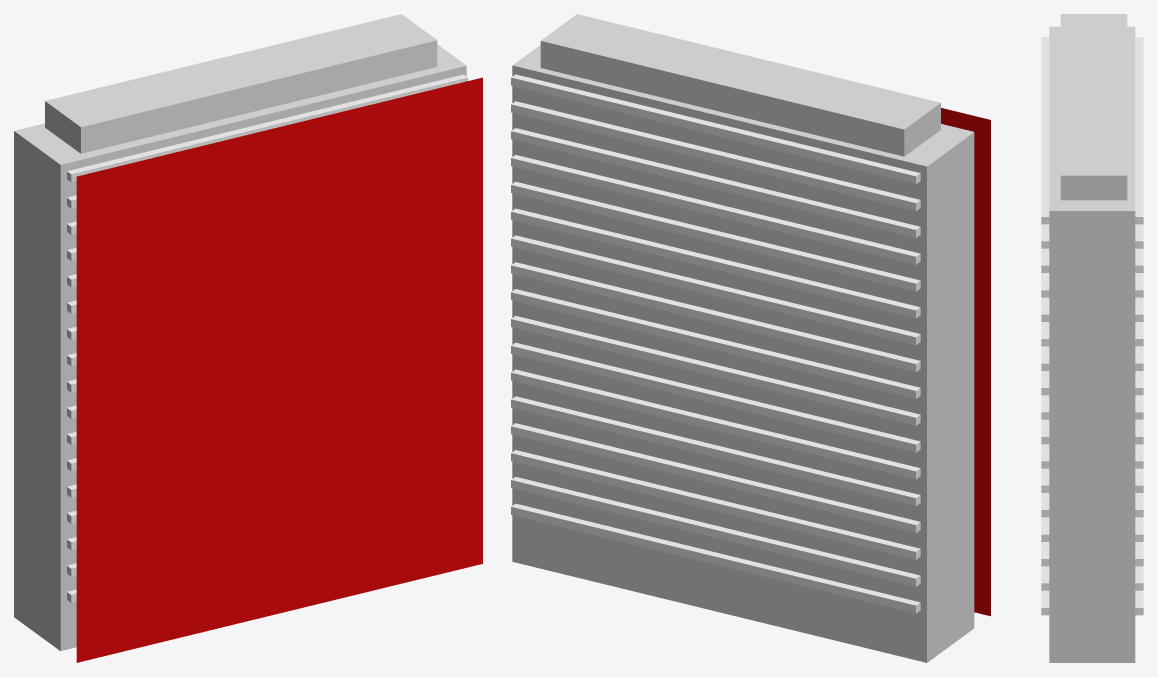
File: build_front.gltf
3 renders of one model, left to right at view 1: azimuth 30°, elevation 25°; view 2: azimuth 150°, elevation 25°; view 3: azimuth 270°, elevation 25°, orthographic. The views are drawn at different scales.
Visible parts, largest first — view 1: clckred, Cube, Cube.4, Cube 16; view 2: Cube, Cube.4, clckred, Cube 6, Cube 8, Cube 2, Cube 5, Cube 7, Cube 12, Cube 9, Cube 3, Cube 4 (+8 smaller); view 3: Cube, Cube.4, Cube 16, Cube 0, Cube 7, Cube 1, Cube 3, Cube 6, Cube 8, Cube 10, Cube 13, Cube 15 (+7 smaller).
Part boxes in pixels (x1,y1,x2,y2): clckred: (76, 77, 482, 662); Cube: (14, 44, 466, 651); Cube.4: (45, 14, 437, 153); Cube 16: (67, 74, 467, 182); Cube: (512, 45, 974, 662); Cube.4: (540, 14, 940, 156); clckred: (941, 108, 990, 616); Cube 6: (511, 342, 920, 452); Cube 8: (511, 289, 920, 398); Cube 2: (511, 450, 920, 559); Cube 5: (511, 369, 920, 479); Cube 7: (511, 315, 920, 425); Cube 12: (511, 181, 920, 291); Cube 9: (511, 262, 920, 371); Cube 3: (511, 423, 920, 532); Cube 4: (511, 396, 920, 506); Cube: (1049, 26, 1135, 662); Cube.4: (1060, 14, 1127, 200); Cube 16: (1041, 37, 1143, 224); Cube 0: (1041, 590, 1143, 615); Cube 7: (1041, 419, 1143, 444); Cube 1: (1041, 566, 1143, 590); Cube 3: (1041, 517, 1143, 541); Cube 6: (1041, 444, 1143, 468); Cube 8: (1041, 395, 1143, 419); Cube 10: (1041, 346, 1143, 370); Cube 13: (1041, 273, 1143, 297); Cube 15: (1041, 224, 1143, 248).
Bounding box in the file's own units: 162 × 195 × 46.08.
